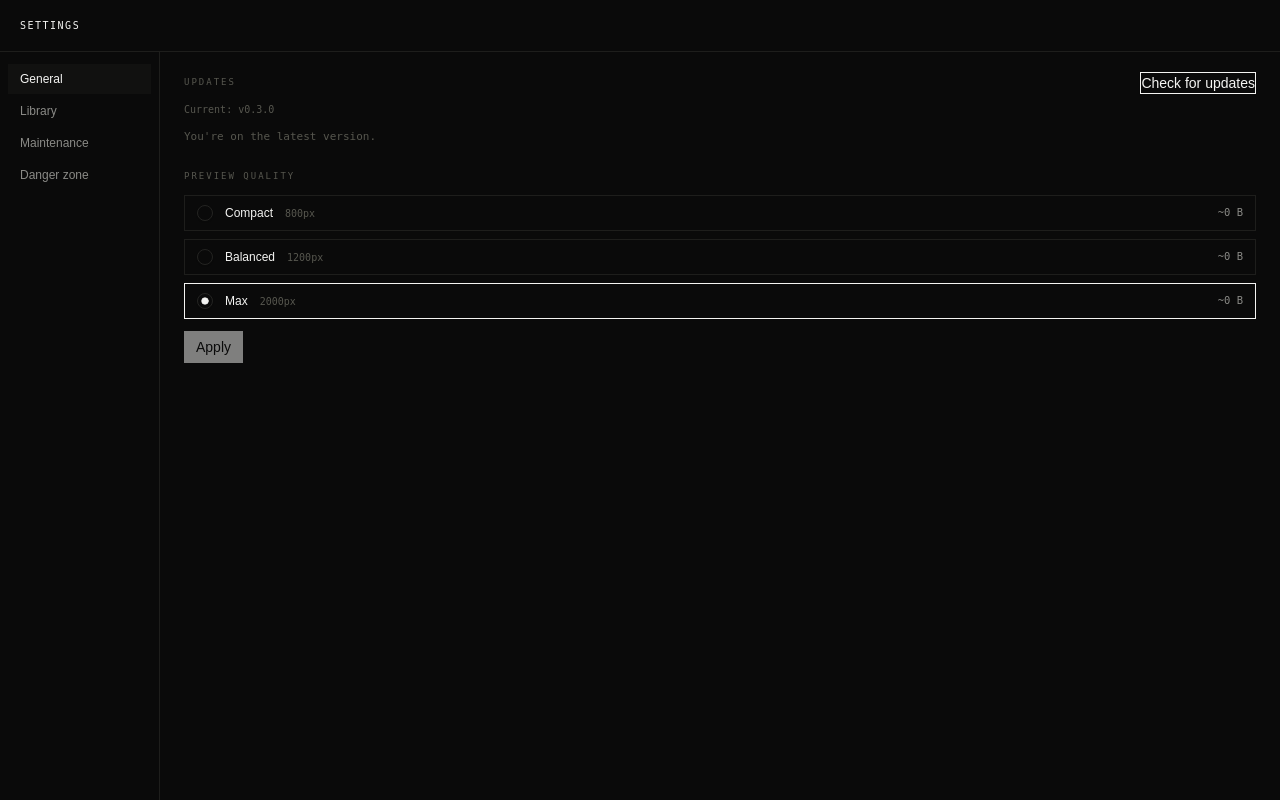
it: navigates to the Library group and renders its storage section
Expected: the text "Current: v0.3.0" is shown, x1=184 y1=104 x2=274 y2=115
Click the link "Library" at (38, 111), box x1=20 y1=104 x2=57 y2=118
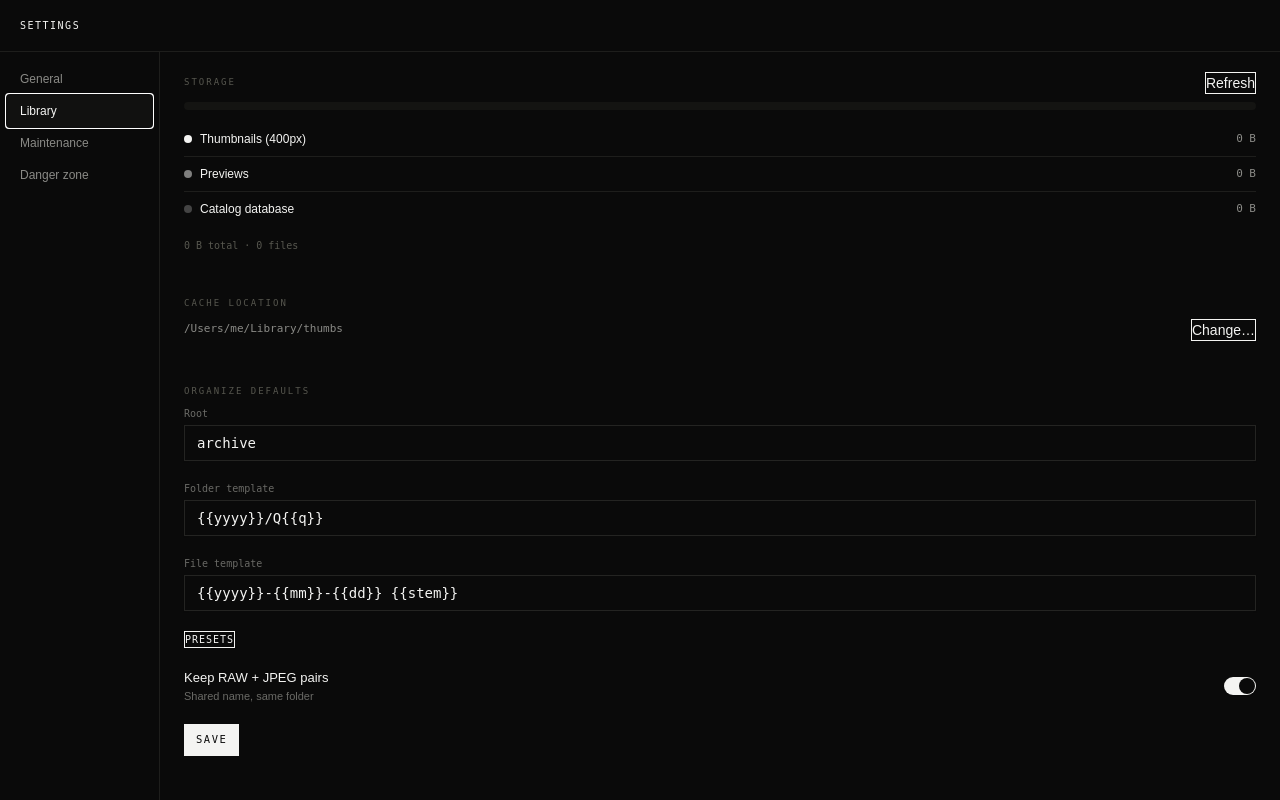
Now the text "Previews" is shown, box x1=200 y1=165 x2=249 y2=183
